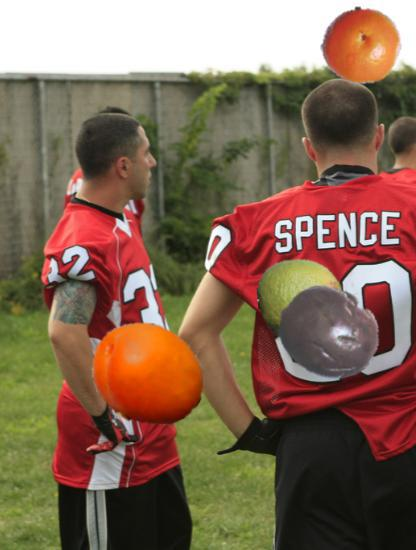Apricot: (89, 317, 207, 435)
Limes: (258, 256, 345, 343)
Passion: (278, 280, 383, 385)
Tangelo: (321, 5, 402, 86)
